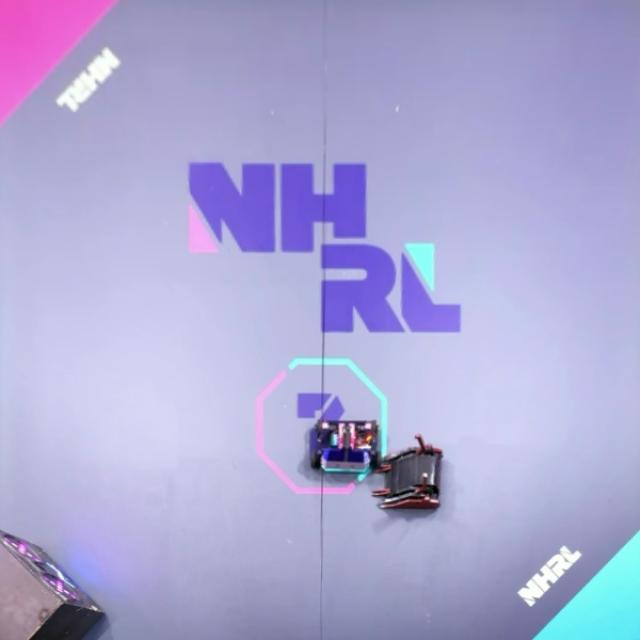housebot: (0, 530, 108, 640)
robot: (372, 436, 444, 510), (312, 422, 383, 473)
